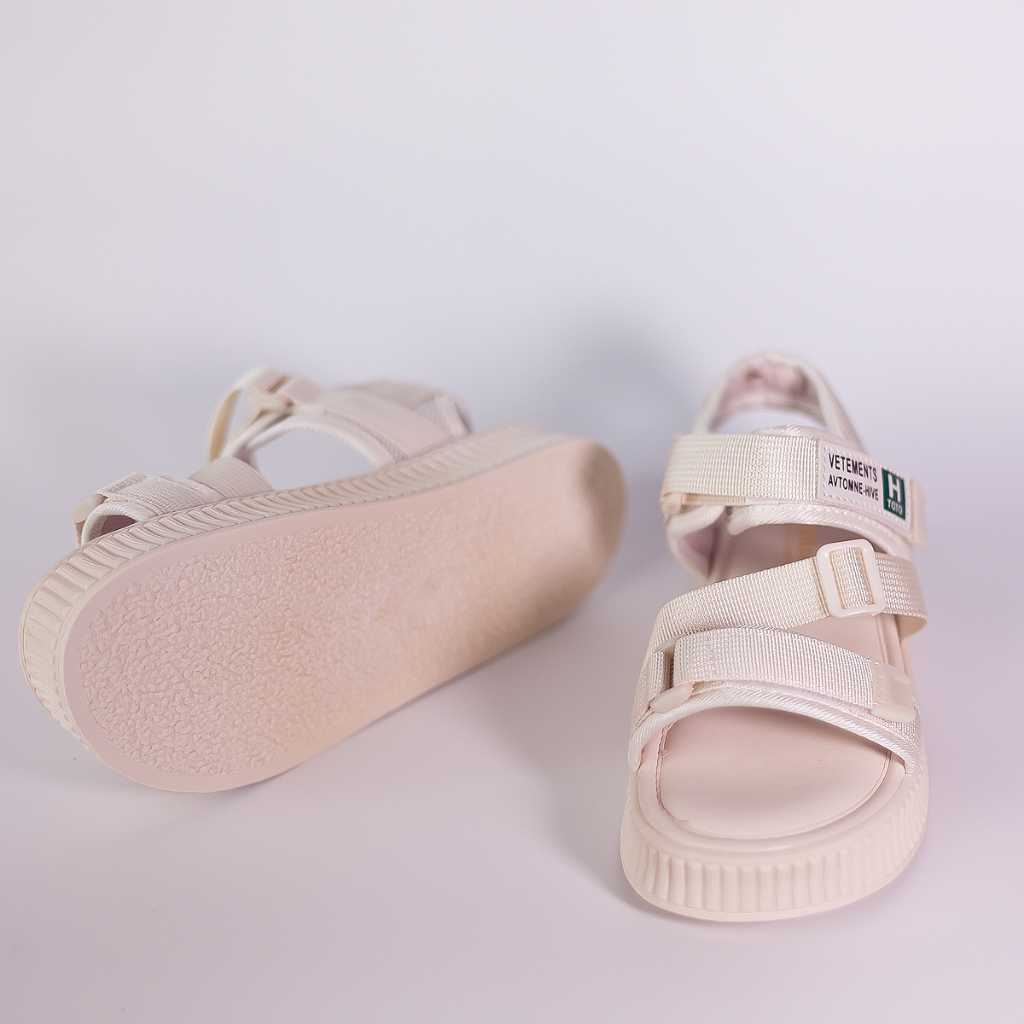sandals: (22, 363, 631, 797), (616, 359, 930, 920)
